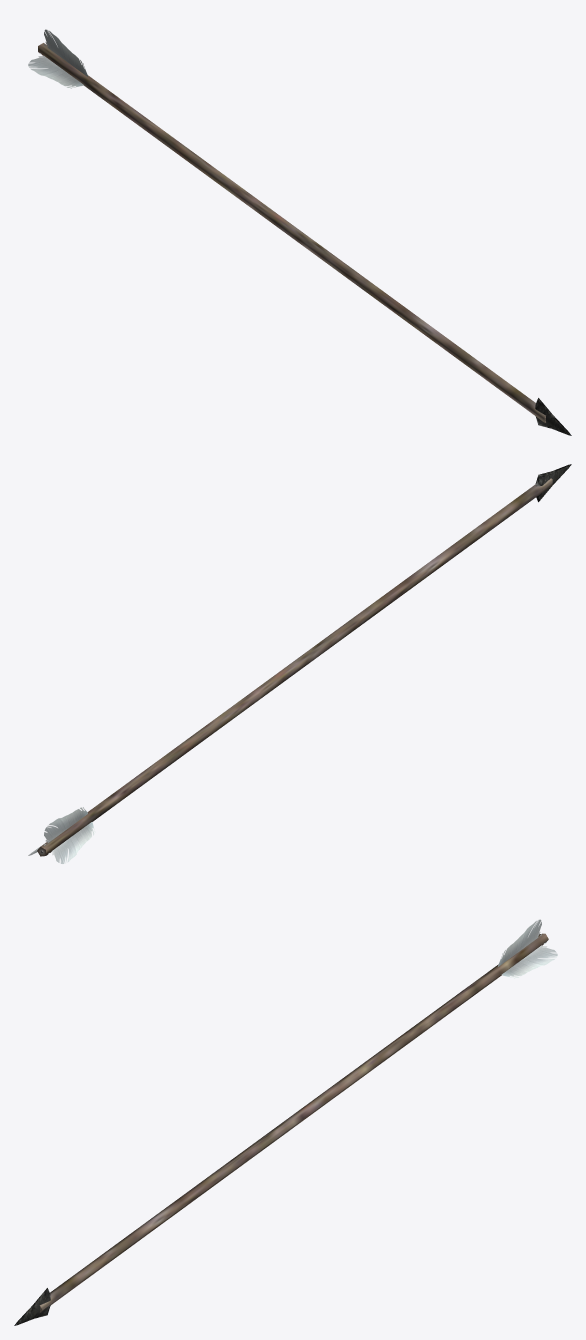
File: arrow.glb
3 views of the same model, one above another, from view 1: azimuth 30°, elevation 25°; view 2: azimuth 150°, elevation 25°; view 3: azimuth 330°, elevation 25° (orthographic).
Visible parts, largest first — view 1: arrow; view 2: arrow; view 3: arrow.
Part boxes in pixels (<box>): arrow: <box>28,29,571,435</box>; arrow: <box>28,464,571,864</box>; arrow: <box>14,919,557,1325</box>.
Bounding box in the file's own units: 0.0461 × 0.04 × 0.7504.
Materials: 1 (1 with a texture image).
